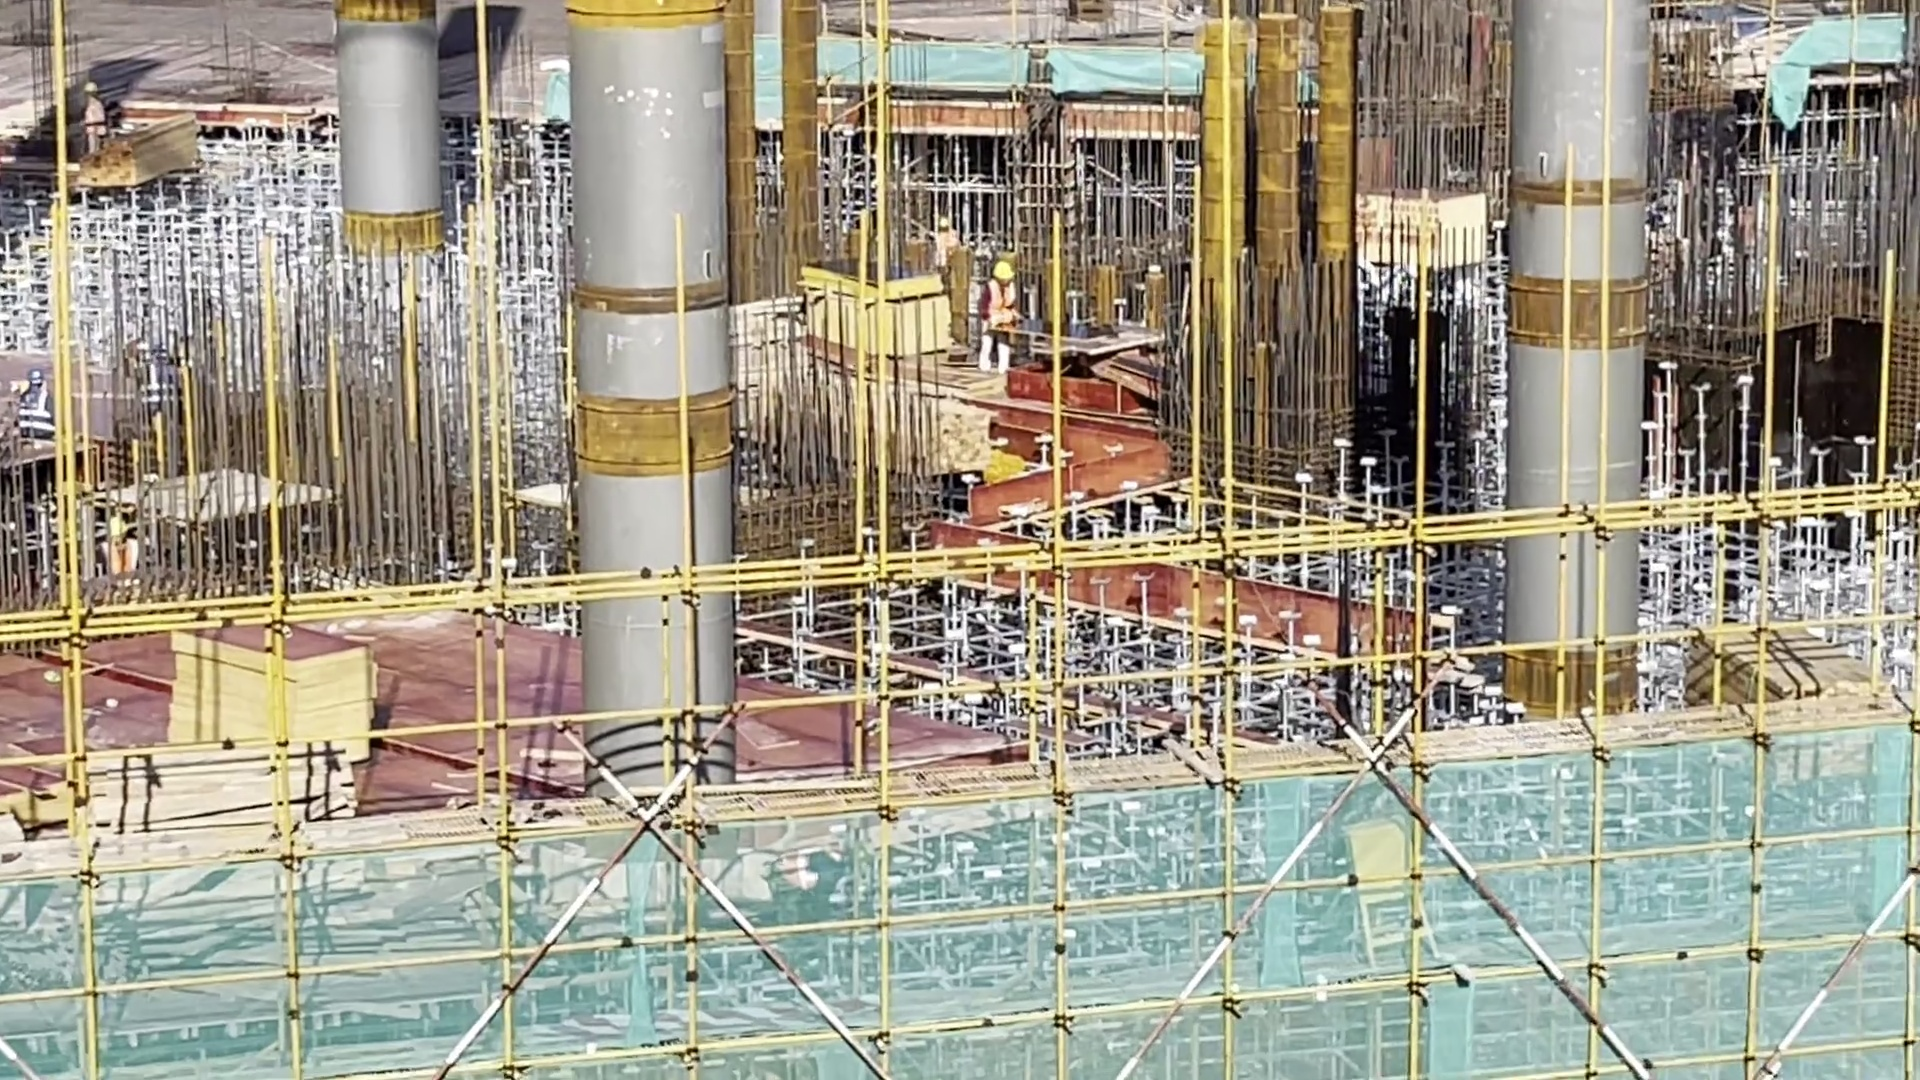helmet: (990, 254, 1018, 288), (102, 512, 128, 538), (78, 73, 104, 98), (26, 366, 46, 389), (934, 214, 953, 228)
person: (975, 245, 1021, 370), (67, 82, 114, 162), (96, 517, 151, 579), (17, 360, 49, 450), (920, 216, 956, 279)
vest: (101, 538, 142, 581), (20, 390, 51, 438), (103, 538, 137, 581), (21, 390, 49, 439), (985, 287, 1017, 326), (78, 97, 106, 133)
